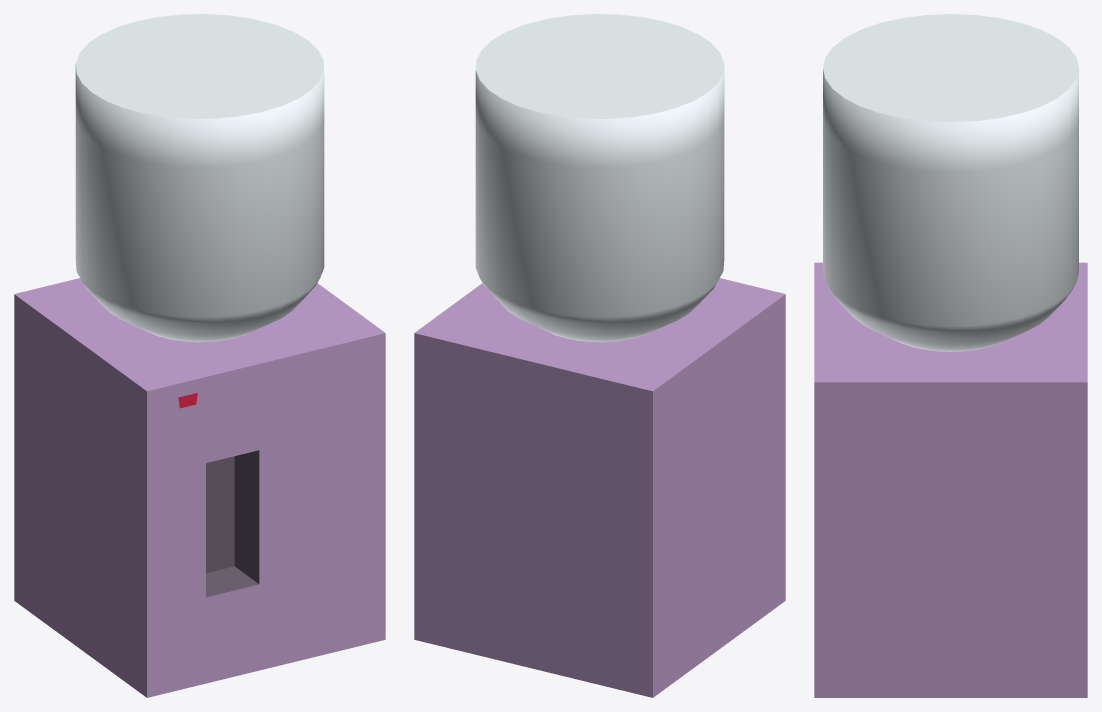
The model's file is Water_Cooler.fbx.
The picture shows the model from 3 angles, left to right: view 1: azimuth 30°, elevation 25°; view 2: azimuth 150°, elevation 25°; view 3: azimuth 270°, elevation 25°; orthographic projection. The views are drawn at different scales.
Visible parts, largest first — view 1: Cube, Cylinder; view 2: Cube, Cylinder; view 3: Cube, Cylinder.
Part boxes in pixels (box(x1,y1,x2,y2)): Cube: box(14, 278, 385, 697); Cylinder: box(75, 14, 324, 342); Cube: box(414, 278, 785, 697); Cylinder: box(475, 14, 724, 342); Cube: box(814, 262, 1087, 697); Cylinder: box(823, 14, 1078, 351).
Bounding box in the file's own units: 189 × 419 × 182.
